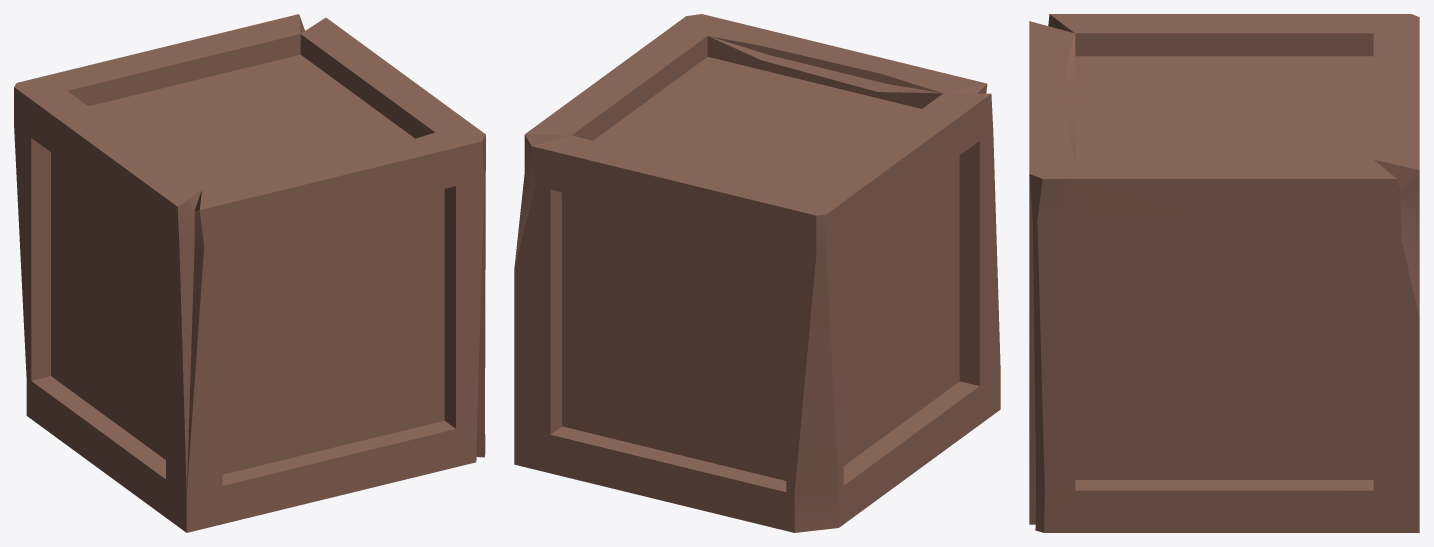
File: SM_Crate_02.fbx
3 views of the same model, side by side, from view 1: azimuth 30°, elevation 25°; view 2: azimuth 150°, elevation 25°; view 3: azimuth 270°, elevation 25° (orthographic). The views are drawn at different scales.
Visible parts, largest first — view 1: Crate_02; view 2: Crate_02; view 3: Crate_02.
Part boxes in pixels (<box>): Crate_02: <box>14,14,485,532</box>; Crate_02: <box>514,14,1000,532</box>; Crate_02: <box>1029,14,1419,532</box>.
Bounding box in the file's own units: 37.89 × 37.89 × 37.89.
